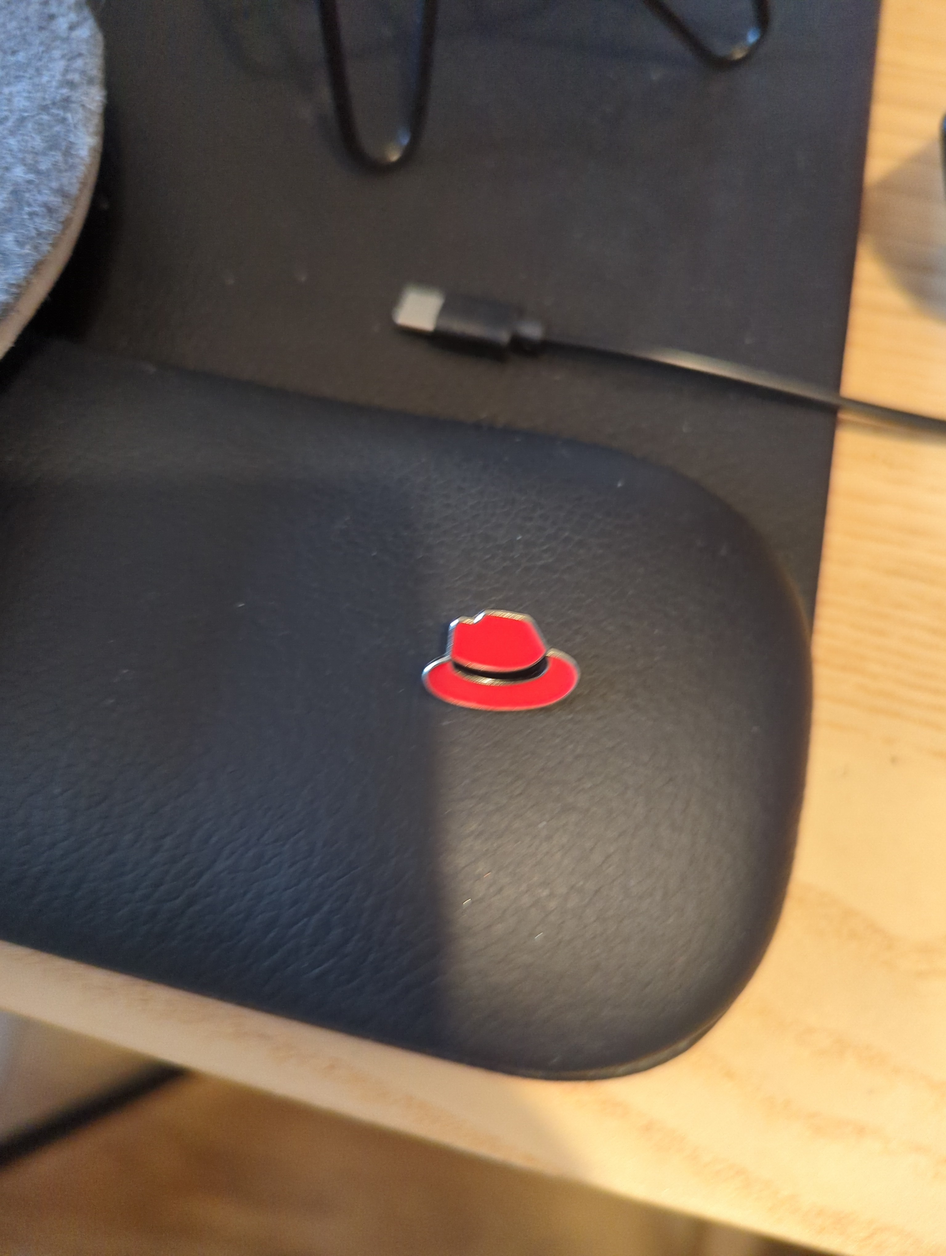Red-Hat: (368, 565, 645, 756)
